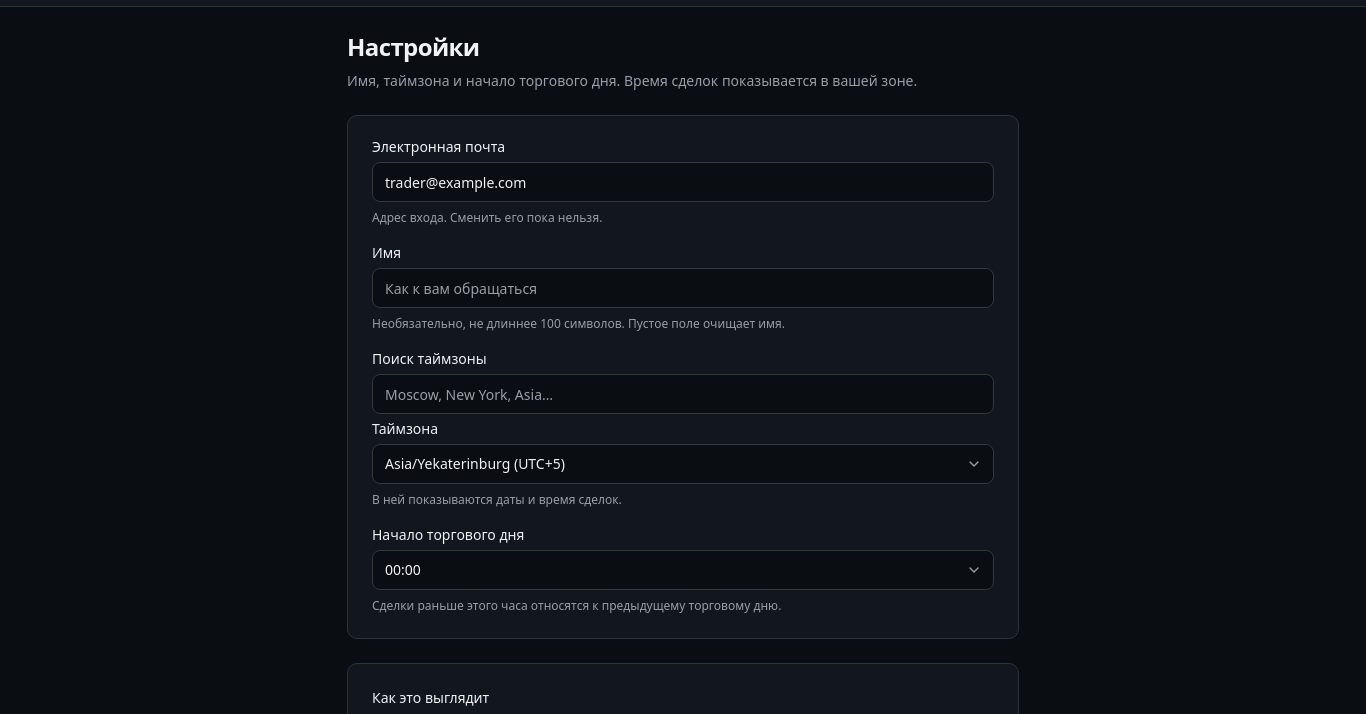
Test: /settings › сохраняет только изменённые поля и блокирует форму на время запроса
The width and height of the screenshot is (1366, 714).
Expected: the dropdown labelled "Таймзона" is enabled, [372, 444, 994, 484]
Type "  Ник  " into the field labelled "Имя" at {"x": 683, "y": 288}, box [372, 268, 994, 308]
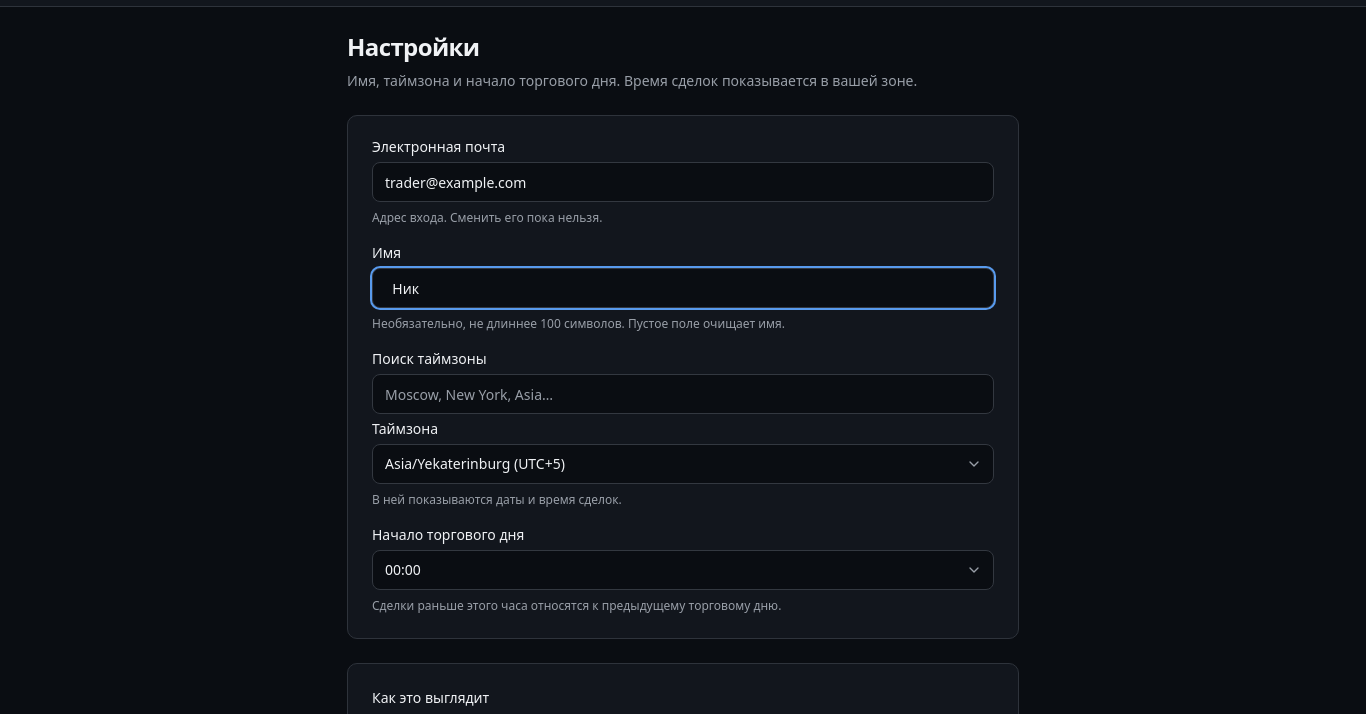
Select "Europe/Moscow (UTC+3)" in the dropdown labelled "Таймзона" at {"x": 683, "y": 464}, box [372, 444, 994, 484]
(page scrolled)
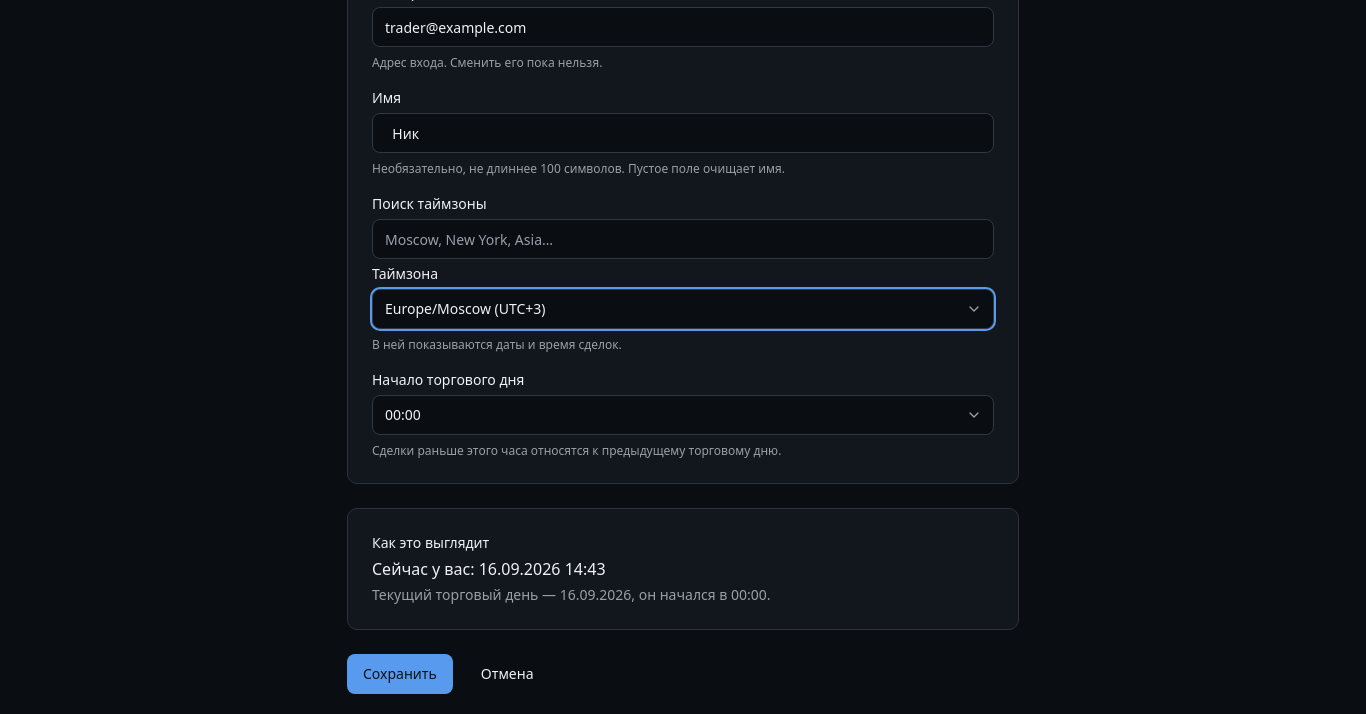
Click the button "Сохранить" at {"x": 400, "y": 674}, box [347, 654, 453, 694]
(page scrolled)
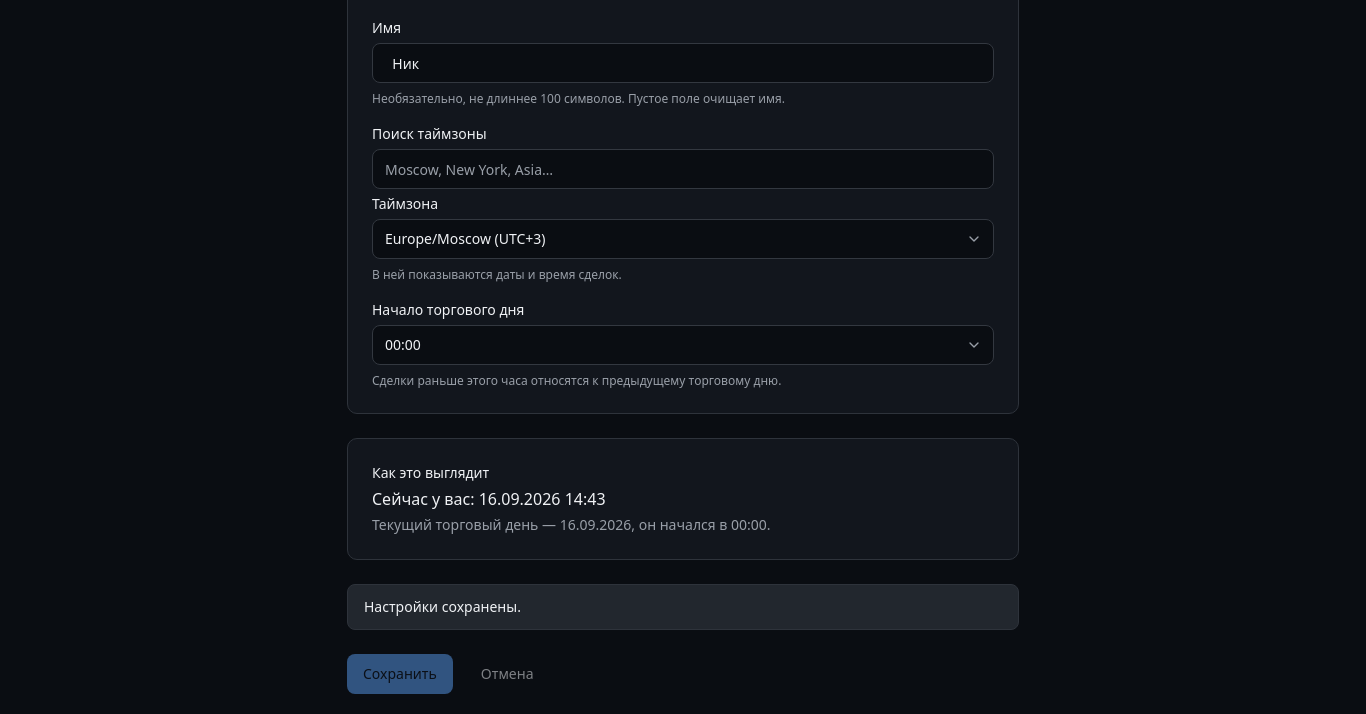
Now the button named "Сохраняем…" is disabled, box [347, 654, 453, 694]
Now the text "Настройки сохранены." is shown, box [347, 584, 1019, 630]
Now the button "Сохранить" is disabled, box [347, 654, 453, 694]
